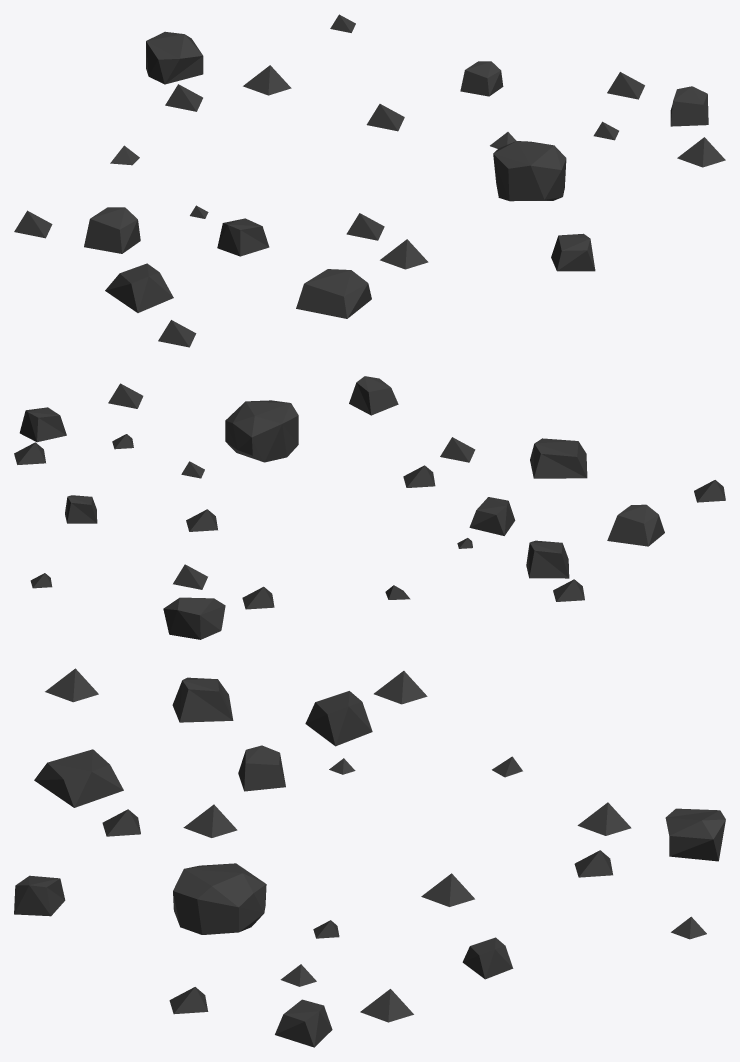
File: SM_Env_Rubble_Pebbles_02.fbx
3 renders of one model, top to bottom at view 1: azimuth 30°, elevation 25°; view 2: azimuth 150°, elevation 25°; view 3: azimuth 270°, elevation 25°, orthographic. The views are drawn at different scales.
Visible parts, largest first — view 1: SM_Env_Rubble_Pebbles_02_LOD0; view 2: SM_Env_Rubble_Pebbles_02_LOD0; view 3: SM_Env_Rubble_Pebbles_02_LOD0.
Part boxes in pixels (box(x1,y1,x2,y2)): SM_Env_Rubble_Pebbles_02_LOD0: box(14, 14, 725, 347); SM_Env_Rubble_Pebbles_02_LOD0: box(14, 376, 725, 639); SM_Env_Rubble_Pebbles_02_LOD0: box(14, 668, 725, 1047).
Size of the model in its own units: 192 by 226 by 16.18.
1 material, 1 textured.
